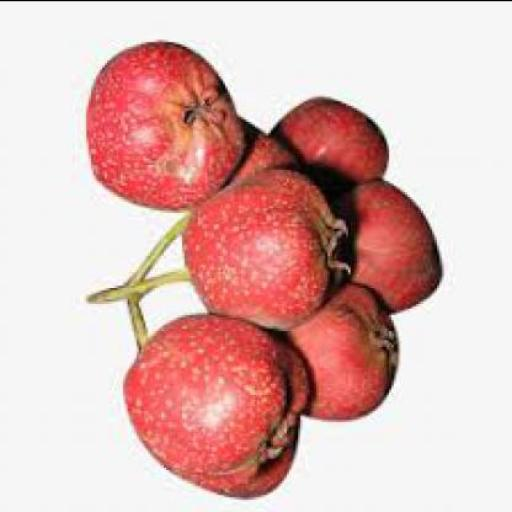biodegradable: (123, 314, 307, 501), (180, 166, 353, 328), (86, 42, 246, 208), (278, 259, 398, 422), (328, 180, 434, 314), (264, 98, 390, 196), (208, 120, 288, 196)
